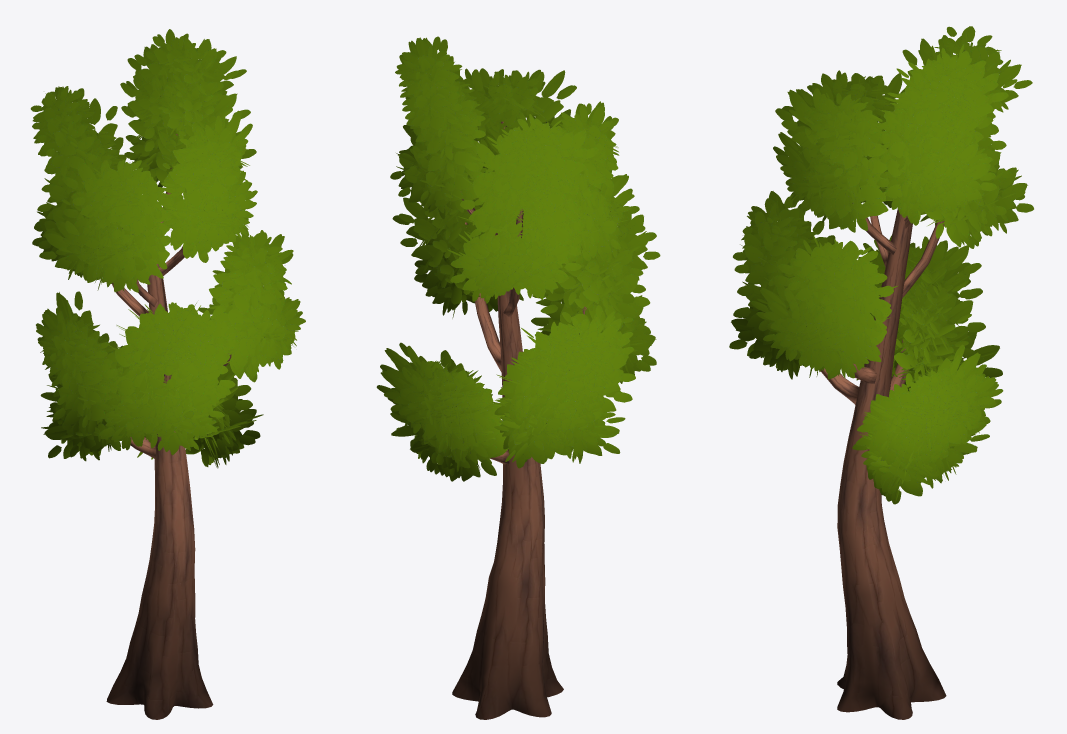
The model's file is n_CommonTree_3.glb.
3 views of the same model, side by side, from view 1: azimuth 30°, elevation 25°; view 2: azimuth 150°, elevation 25°; view 3: azimuth 270°, elevation 25° (orthographic). The views are drawn at different scales.
Parts seen in each view (by area): view 1: CommonTree_3; view 2: CommonTree_3; view 3: CommonTree_3.
Part boxes in pixels (box(x1,y1,x2,y2)): CommonTree_3: box(30, 29, 305, 719); CommonTree_3: box(376, 36, 660, 719); CommonTree_3: box(729, 26, 1033, 719).
Size of the model in its own units: 4.06 by 9.43 by 4.24.
Materials: 2 (2 with a texture image).
